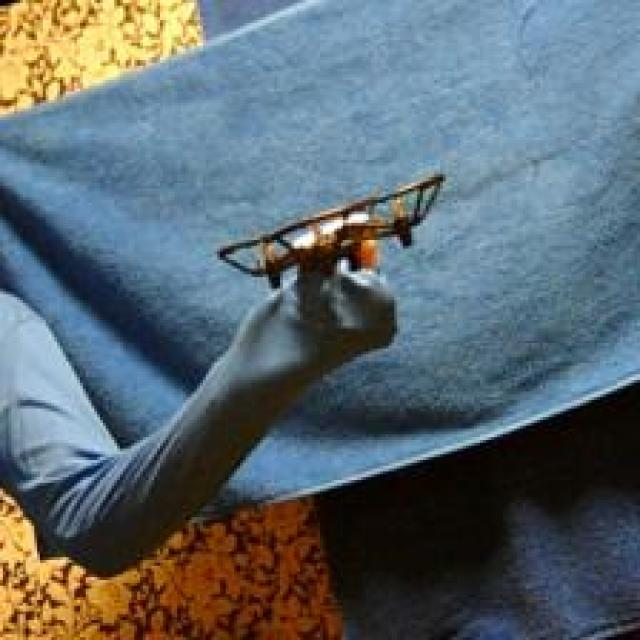drone: (217, 174, 452, 289)
